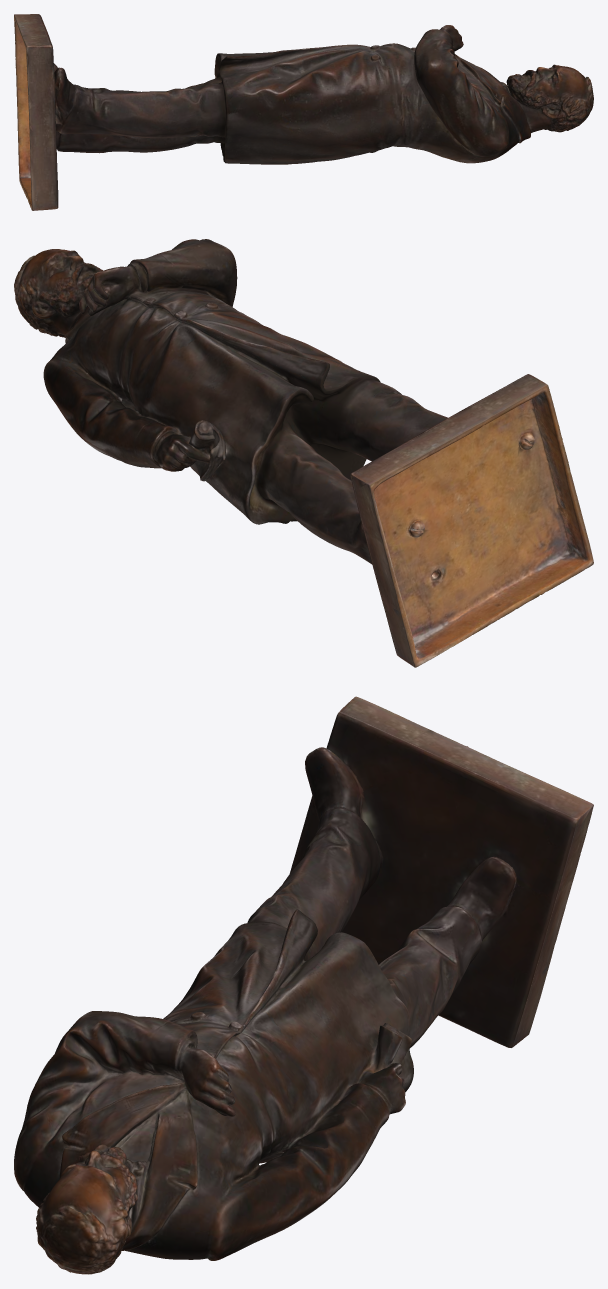
The model's file is figure_garfield.glb.
The picture shows the model from 3 angles, top to bottom: view 1: azimuth 30°, elevation 25°; view 2: azimuth 150°, elevation 25°; view 3: azimuth 270°, elevation 25°; orthographic projection. The views are drawn at different scales.
Size of the model in its own units: 474 by 170 by 296.
1 material, 1 textured.
